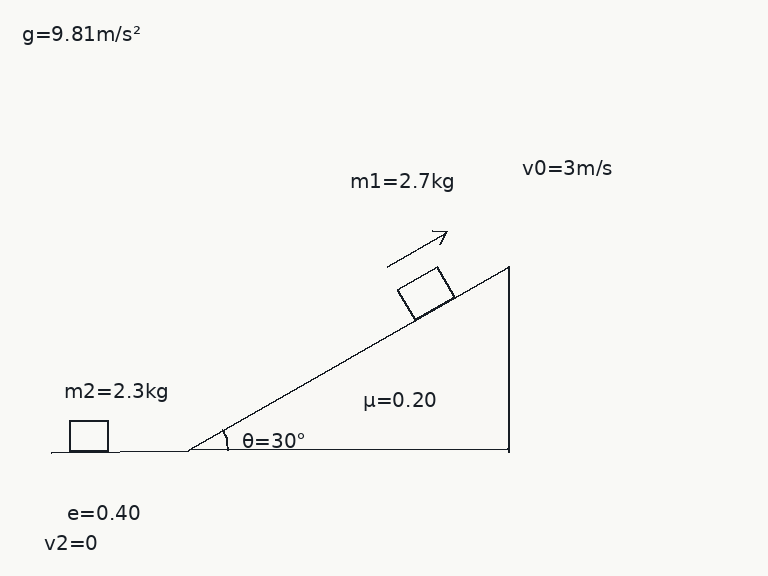block: (395, 265, 456, 321), (67, 419, 111, 452)
ramp: (186, 264, 510, 452)
